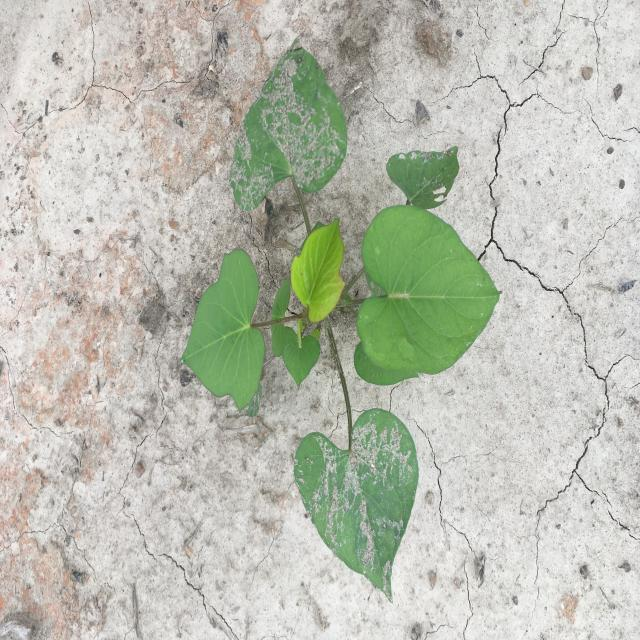MorningGlory: (180, 36, 502, 606)
